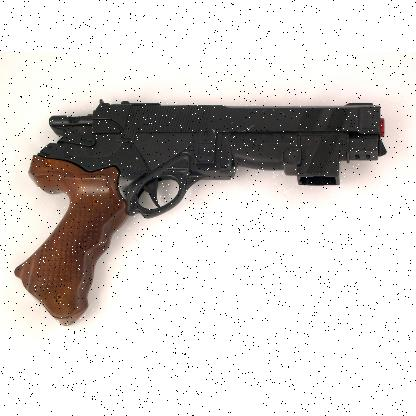gun: (14, 98, 386, 326)
